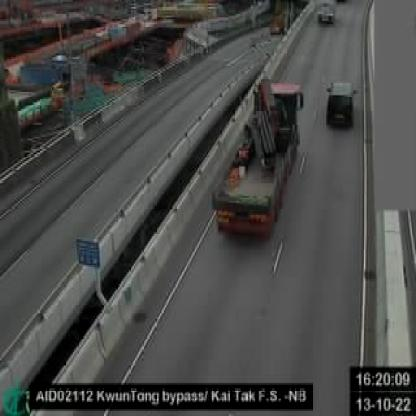Car: (326, 80, 355, 132), (318, 2, 335, 26)
Truck: (212, 76, 304, 241)
